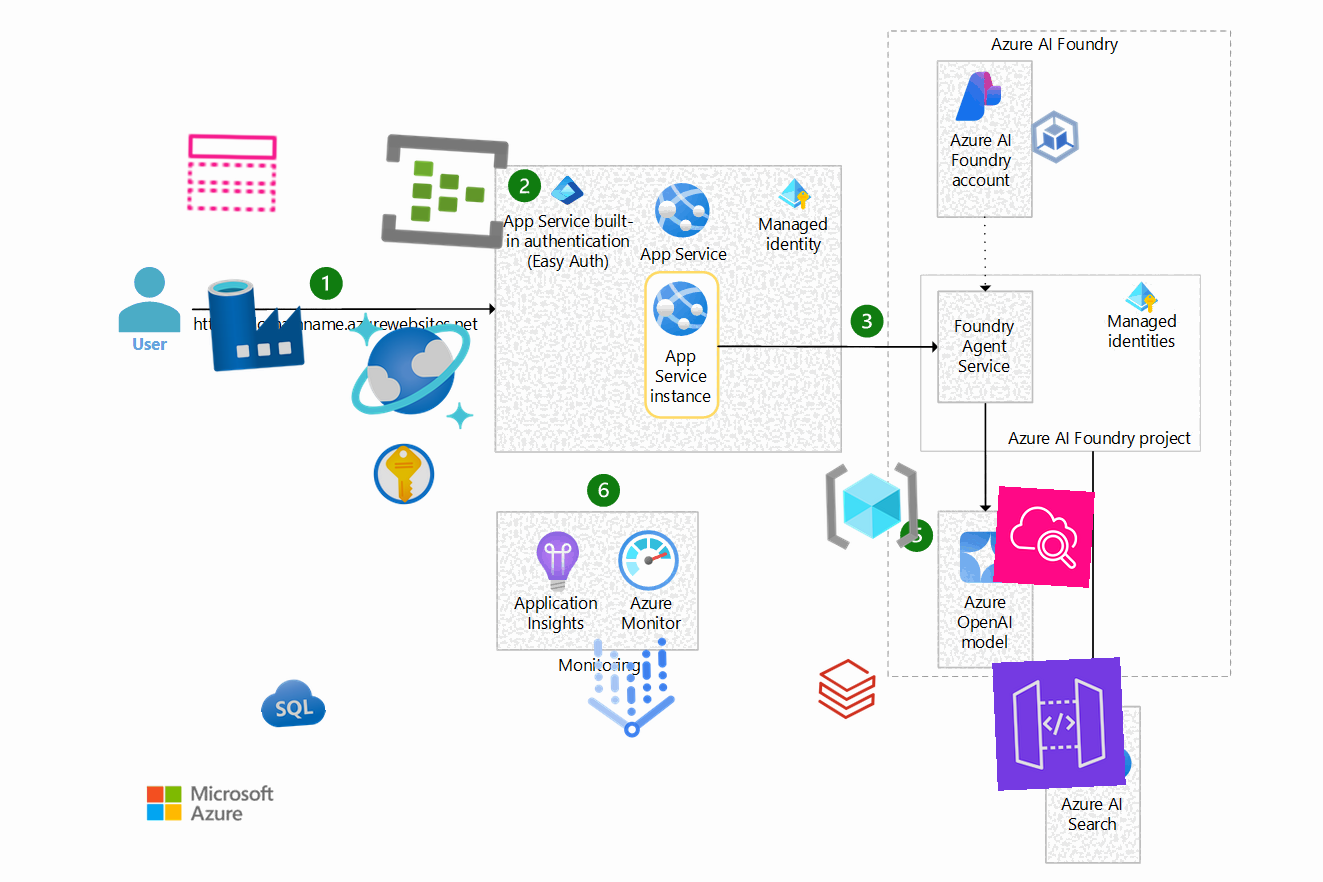aws_amazon_api_gateway: (992, 657, 1126, 791)
aws_amazon_cloudwatch: (993, 486, 1095, 588)
aws_simple_notification_service_topic: (182, 123, 282, 223)
azure_cosmos_db: (344, 304, 478, 438)
azure_data_factories: (204, 271, 308, 375)
azure_databricks: (813, 655, 881, 723)
azure_event_hubs: (377, 123, 513, 259)
azure_key_vaults: (370, 440, 438, 508)
azure_resource_groups: (822, 456, 922, 556)
azure_sql: (258, 669, 328, 739)
gcp_google_kubernetes_engine: (1021, 103, 1089, 171)
gcp_vertex_ai: (565, 622, 697, 754)
